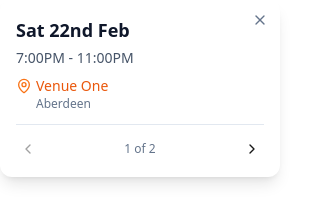
Test case: EventMarkerPopup › Multiple events navigation › navigates to previous event when Prev clicked
Go to second event first
Click the button named "next" at x=252, y=149, box [240, 137, 264, 161]
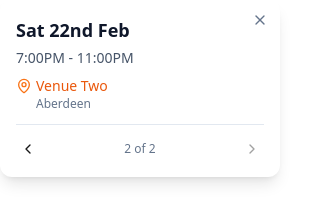
Result: the link "Venue Two" is shown at [36, 76, 108, 96]
Click previous
Click the button named "previous" at x=28, y=149, box [16, 137, 40, 161]
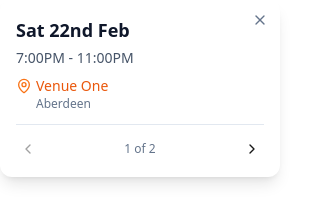
Result: the link "Venue One" is shown at [36, 76, 108, 96]
Result: the text "1 of 2" is shown at [124, 141, 156, 157]
